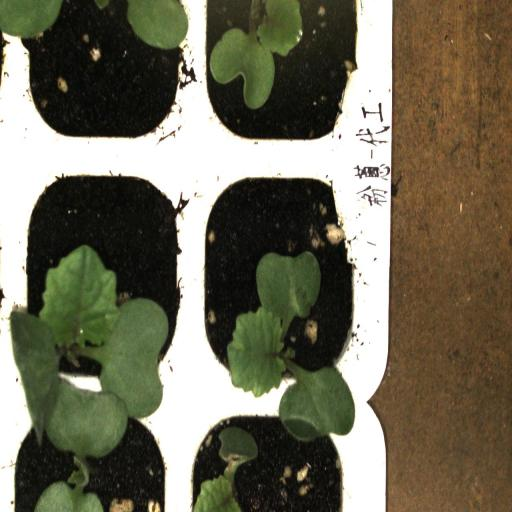seedling: (10, 149, 188, 402), (190, 150, 359, 404), (206, 0, 362, 146)
